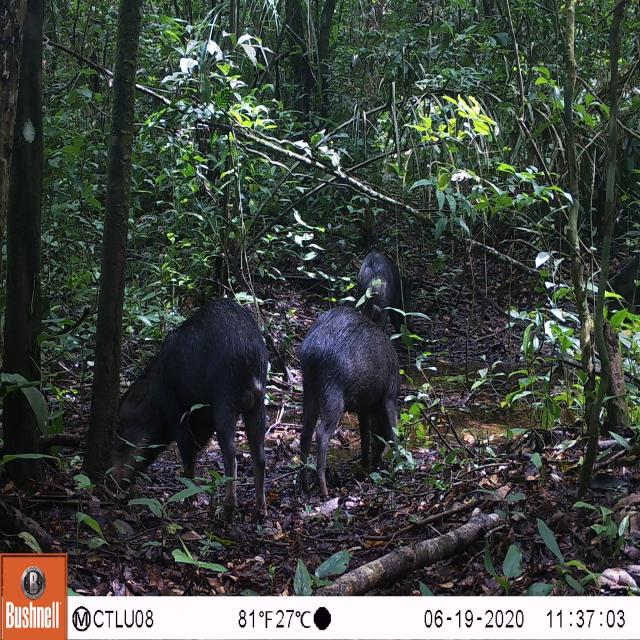Collared Peccary: (112, 283, 289, 532), (294, 308, 418, 508), (342, 242, 417, 342)
